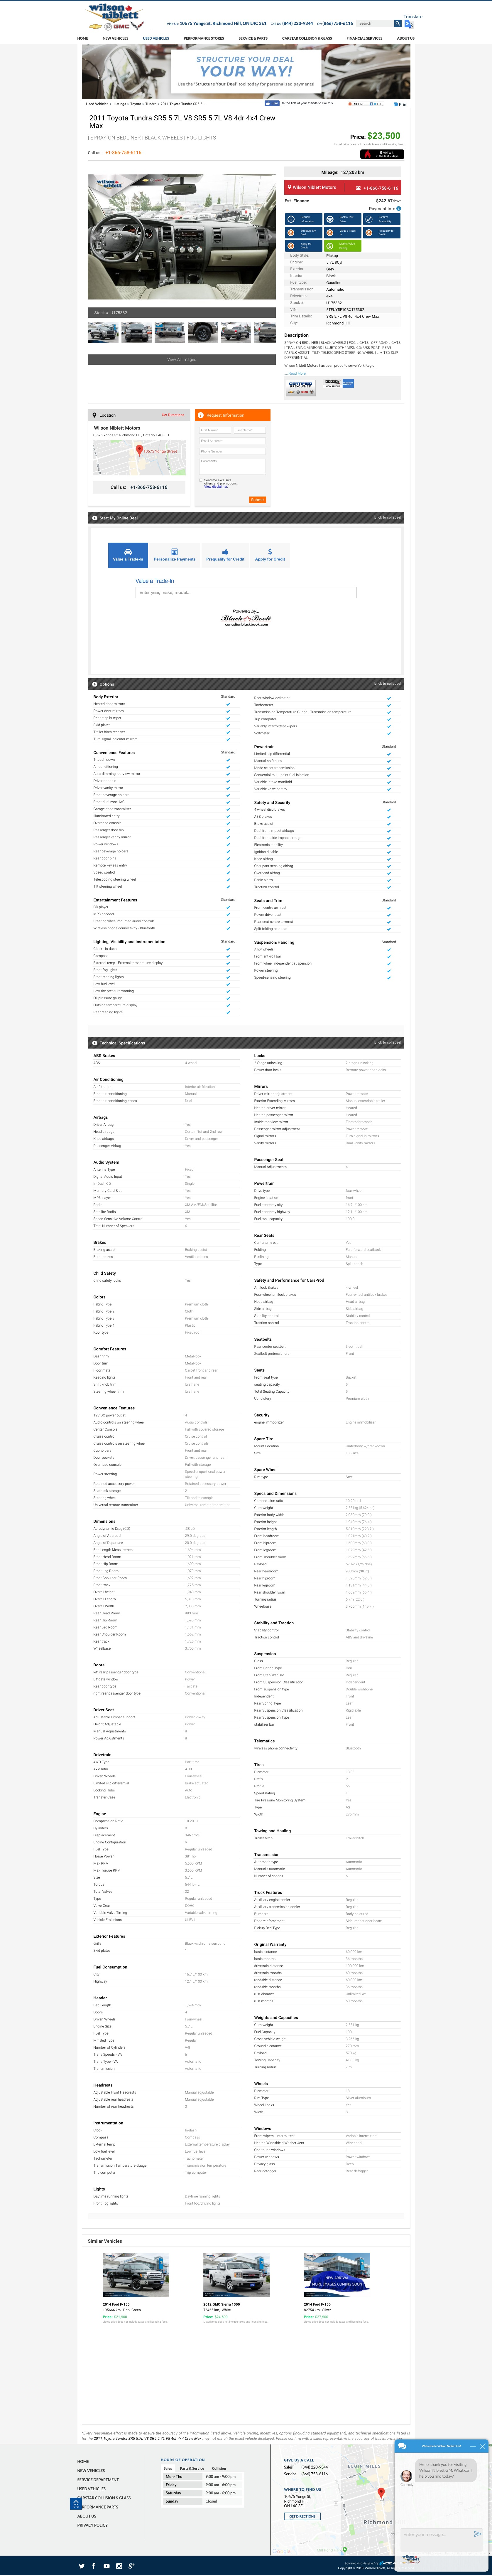car: (262, 230, 277, 245)
